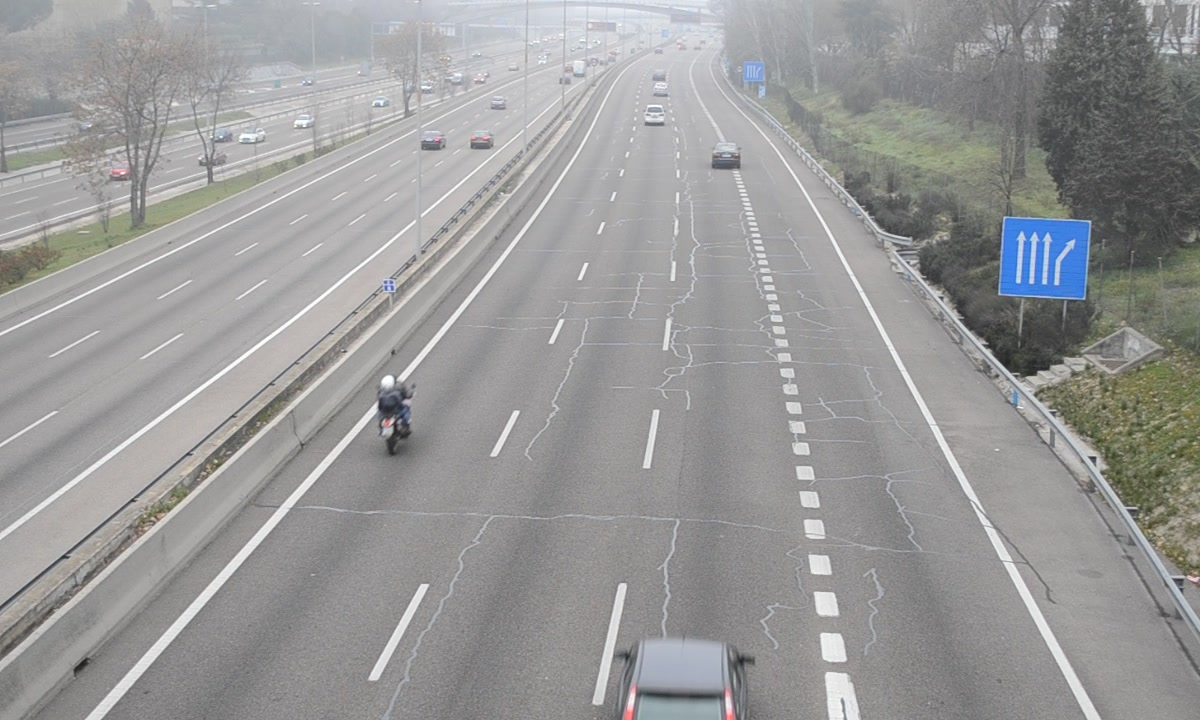car: (615, 637, 755, 715), (710, 142, 740, 169), (643, 105, 666, 128)
motorcycle: (372, 374, 414, 456)
